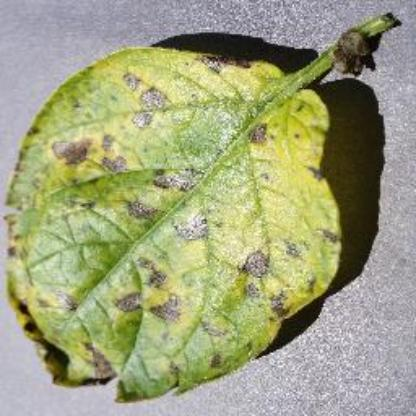Early-Blight: (8, 17, 400, 402)
